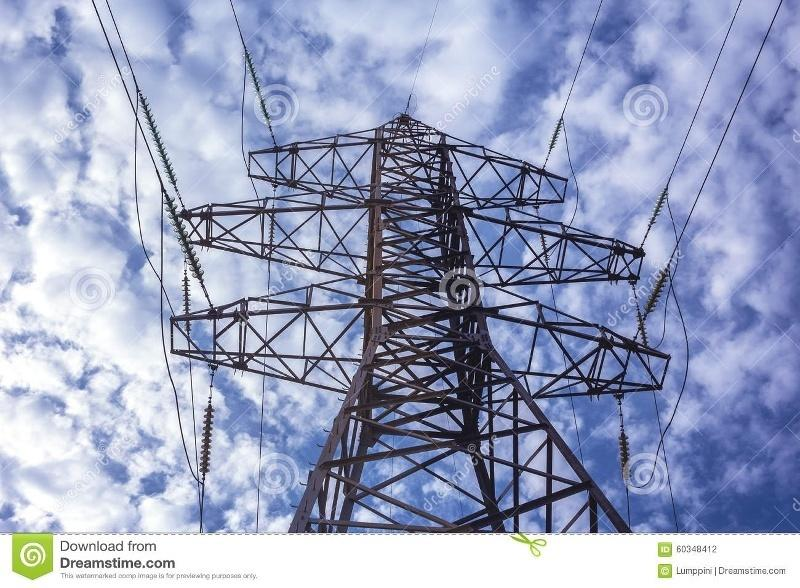power_tower: (187, 93, 651, 535)
